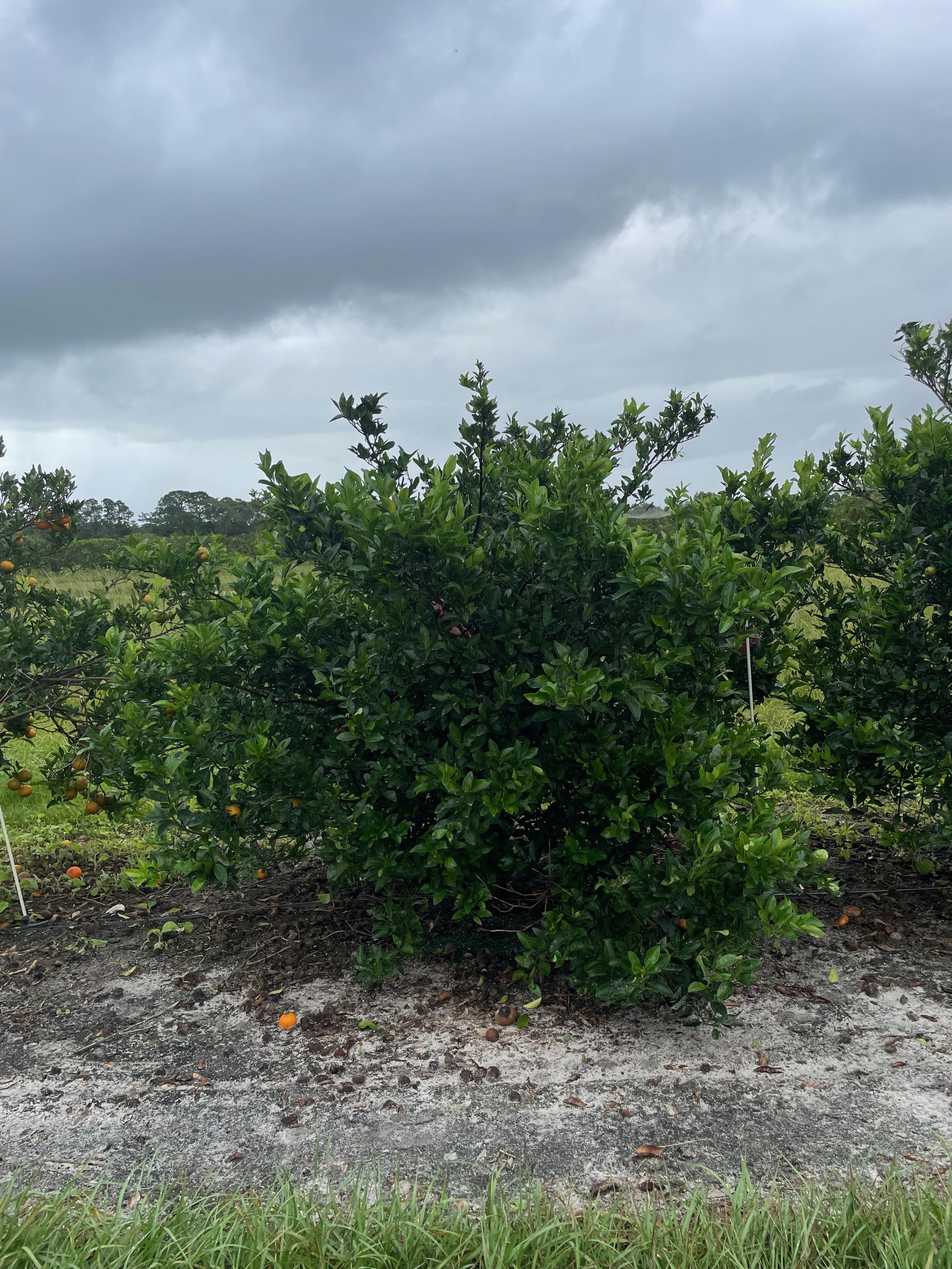fruit_on_ground: (191, 543, 212, 565), (49, 516, 73, 535), (222, 801, 242, 819), (137, 591, 156, 609), (53, 510, 72, 526), (91, 791, 109, 807), (71, 756, 89, 772), (83, 800, 101, 816), (17, 783, 33, 799), (17, 767, 33, 783), (73, 777, 89, 793), (34, 516, 50, 531), (6, 776, 21, 792), (923, 564, 938, 579), (0, 558, 15, 573), (62, 786, 77, 800), (42, 506, 55, 520), (12, 535, 25, 548), (163, 703, 177, 715), (25, 575, 38, 587), (24, 728, 37, 740)
fruit_on_tree: (494, 1004, 517, 1027), (276, 1009, 298, 1031), (482, 1024, 500, 1042), (831, 911, 851, 927), (673, 914, 690, 932), (64, 864, 83, 879), (255, 866, 270, 881), (16, 867, 33, 880), (10, 861, 24, 874), (59, 837, 73, 849), (32, 888, 43, 898)
